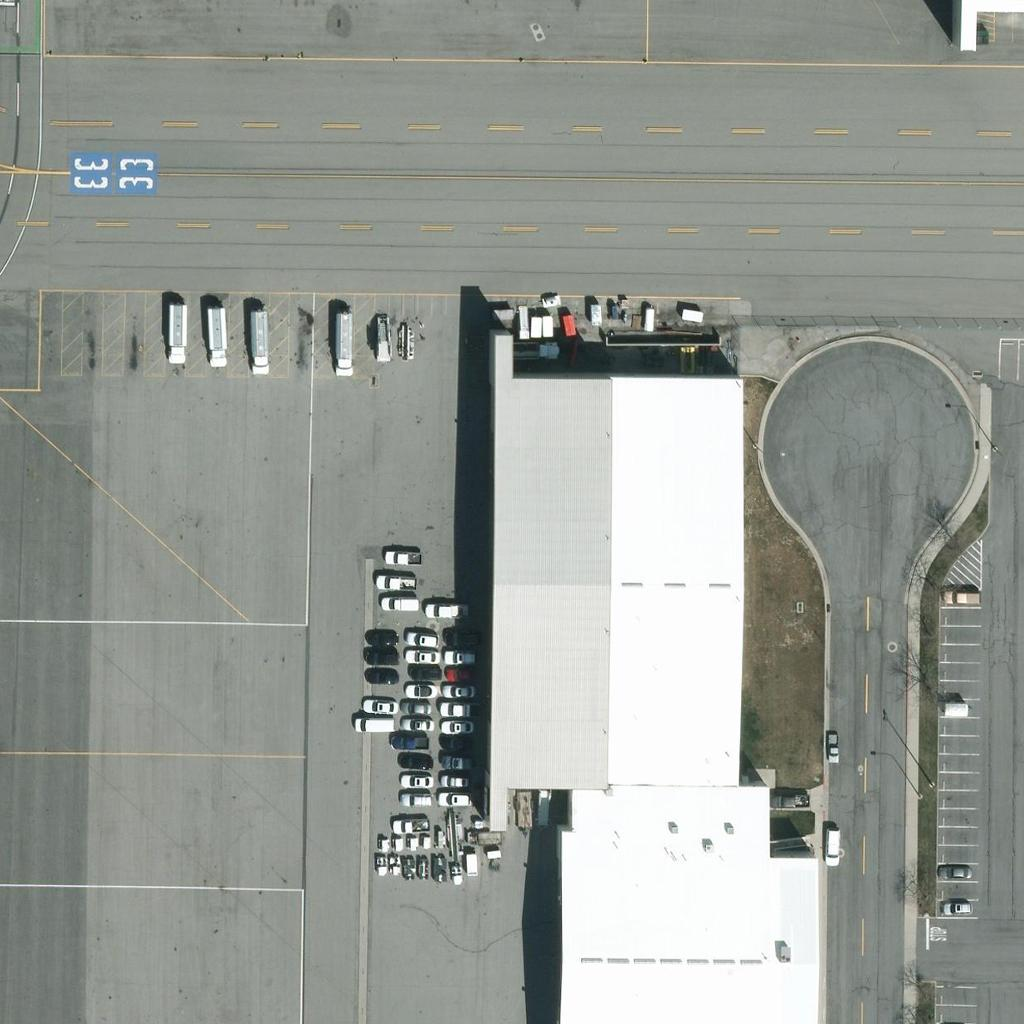car: (384, 541, 418, 575), (377, 567, 411, 601), (943, 580, 977, 614), (380, 585, 414, 619), (425, 594, 459, 628), (447, 621, 481, 655), (365, 622, 399, 656), (404, 622, 438, 656), (404, 639, 438, 673), (442, 639, 476, 673), (367, 642, 401, 676), (409, 654, 443, 688), (444, 655, 478, 689), (366, 659, 400, 693), (401, 673, 435, 707), (442, 674, 476, 708), (361, 689, 395, 723), (398, 689, 432, 723), (439, 691, 473, 725), (440, 707, 474, 741), (355, 708, 389, 742), (400, 708, 434, 742), (392, 725, 426, 759), (441, 725, 475, 759), (815, 733, 849, 767), (399, 745, 433, 779), (441, 745, 475, 779), (401, 763, 435, 797), (443, 764, 477, 798), (399, 782, 433, 816), (437, 782, 471, 816), (768, 783, 802, 817), (390, 809, 424, 843), (815, 831, 849, 865), (938, 854, 972, 888), (940, 888, 974, 922)
